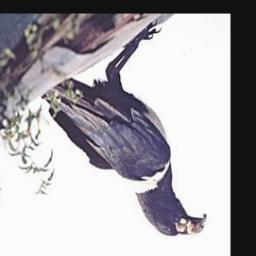Crow: (35, 22, 209, 239)
